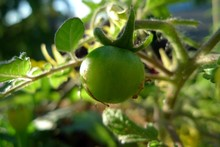tomato: (49, 5, 172, 116)
